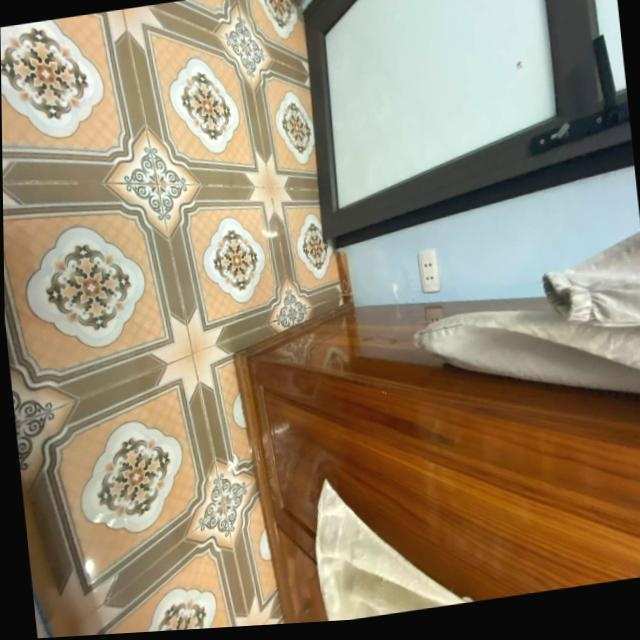outlet: (416, 248, 441, 295)
